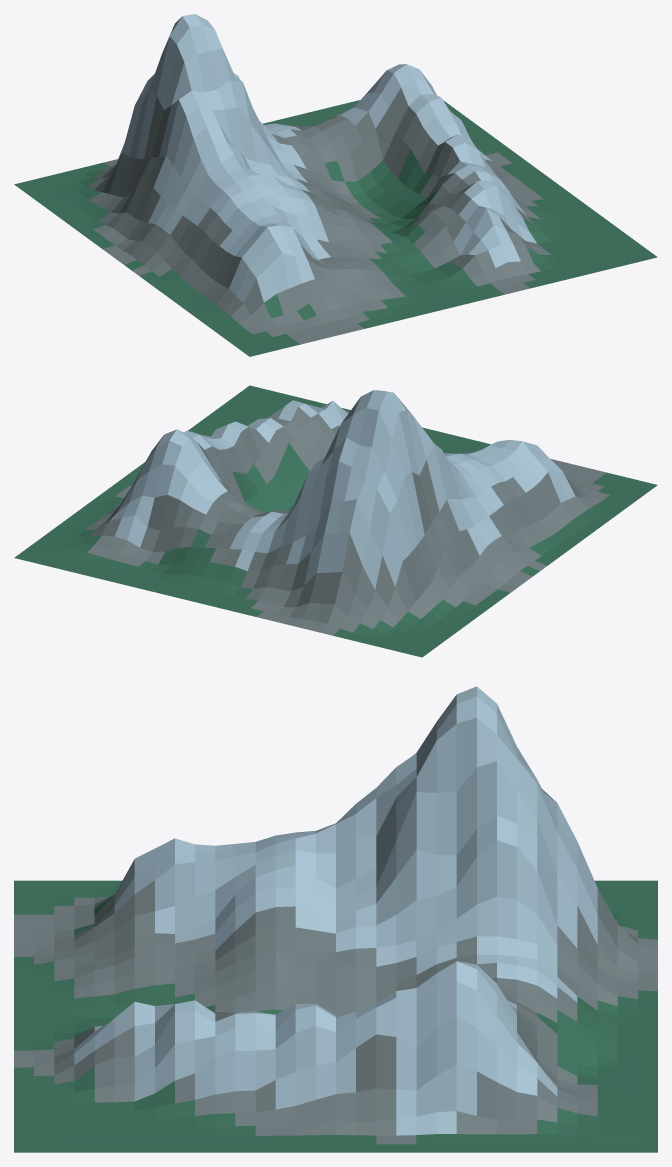
The model's file is Environment Mountain region001.fbx.
3 renders of one model, top to bottom at view 1: azimuth 30°, elevation 25°; view 2: azimuth 150°, elevation 25°; view 3: azimuth 270°, elevation 25°, orthographic. The views are drawn at different scales.
Visible parts, largest first — view 1: Plane; view 2: Plane; view 3: Plane.
Boxes of the visible parts, x1,y1,x2,y2 form: Plane: (14,14,657,356); Plane: (14,385,657,657); Plane: (14,686,657,1152).
Bounding box in the file's own units: 1944 × 890 × 1944.
